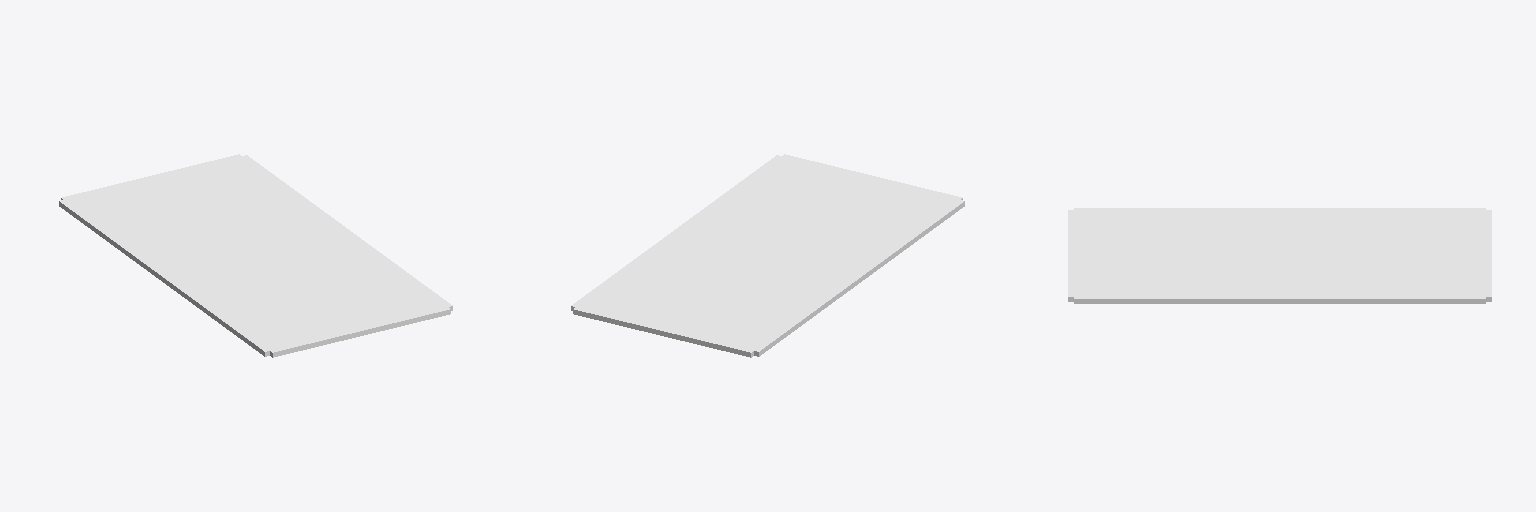
Rendered from Platform_Big.obj.
3 views of the same model, side by side, from view 1: azimuth 30°, elevation 25°; view 2: azimuth 150°, elevation 25°; view 3: azimuth 270°, elevation 25° (orthographic).
Visible parts, largest first — view 1: object 1; view 2: object 1; view 3: object 1.
Part boxes in pixels (bbox=[...]): object 1: bbox=[59, 154, 452, 357]; object 1: bbox=[571, 154, 964, 357]; object 1: bbox=[1068, 208, 1491, 303].
Bounding box in the file's own units: 3.9 × 0.1 × 7.6.